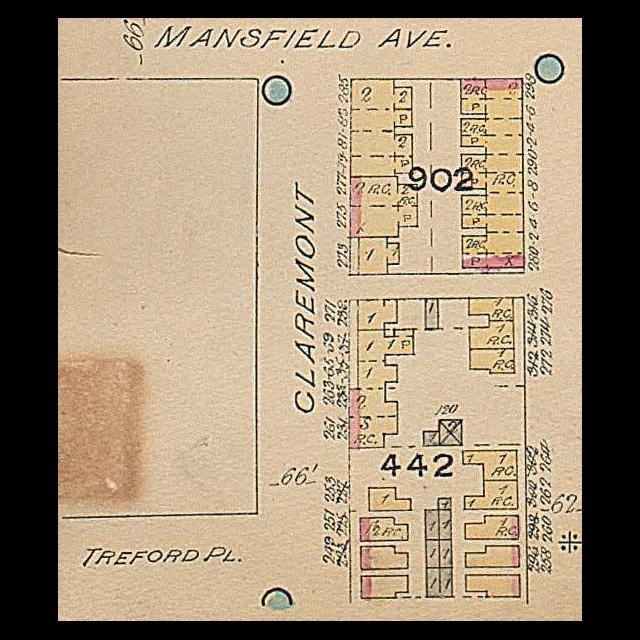building-footprints: (461, 79, 524, 268), (349, 330, 413, 448), (350, 79, 412, 177), (350, 177, 417, 238), (463, 451, 517, 481), (465, 481, 518, 510), (359, 237, 399, 275), (465, 516, 518, 540), (466, 575, 520, 598), (470, 322, 514, 349), (358, 300, 397, 330), (360, 518, 408, 542), (470, 349, 515, 374), (466, 547, 519, 568), (361, 547, 408, 570), (361, 576, 408, 599), (469, 298, 514, 322), (369, 488, 411, 511), (439, 420, 462, 446), (425, 510, 439, 541), (427, 569, 440, 598), (426, 299, 438, 330), (439, 540, 452, 568), (439, 510, 451, 540), (440, 568, 452, 598), (427, 540, 439, 568), (424, 432, 440, 447), (438, 499, 451, 510)
